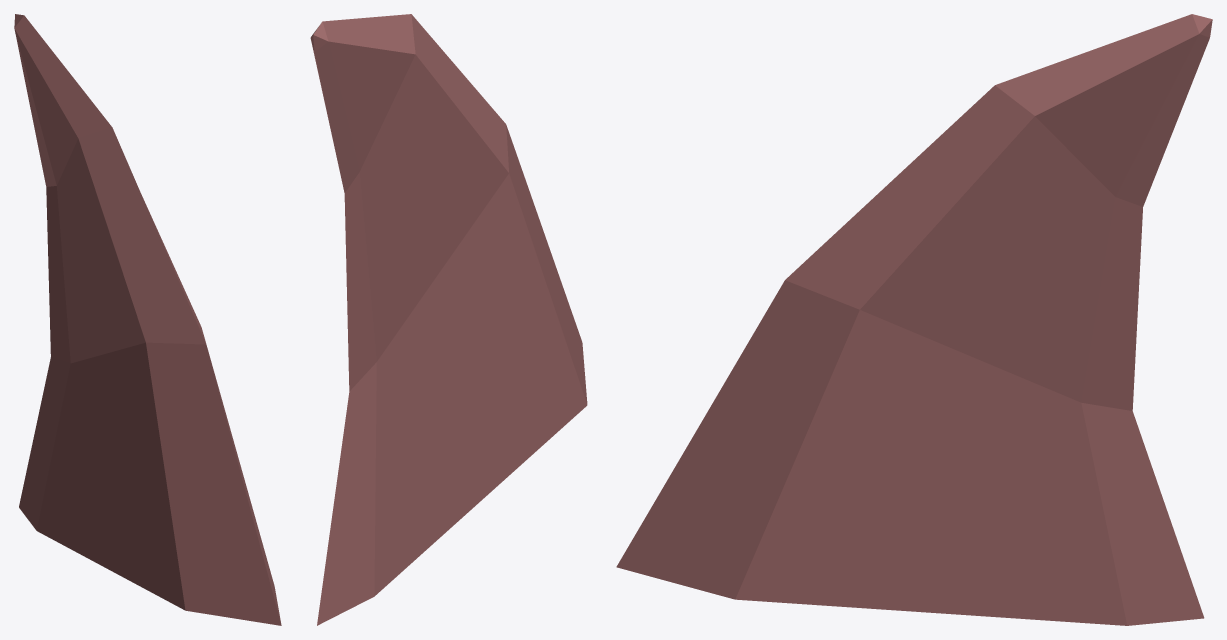
File: FinPickUp.fbx
3 renders of one model, left to right at view 1: azimuth 30°, elevation 25°; view 2: azimuth 150°, elevation 25°; view 3: azimuth 270°, elevation 25°, orthographic. The views are drawn at different scales.
Parts seen in each view (by area): view 1: FinPickup; view 2: FinPickup; view 3: FinPickup.
Part boxes in pixels (<box>): FinPickup: <box>14,14,281,625</box>; FinPickup: <box>310,14,587,625</box>; FinPickup: <box>616,14,1212,625</box>.
Size of the model in its own units: 10.82 by 55.75 by 49.84.
